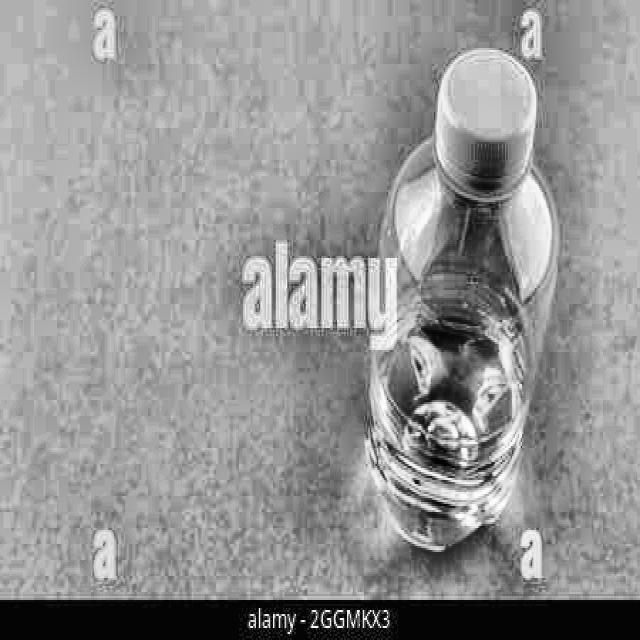waterbottle: (368, 48, 558, 551)
